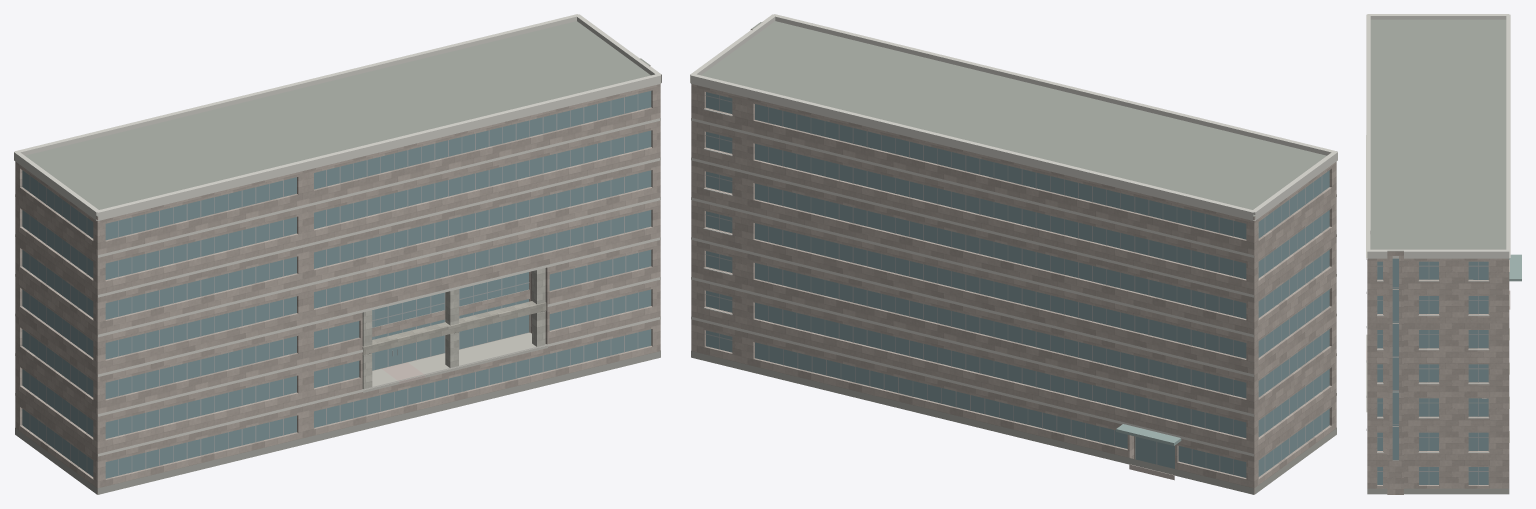
3 views of the same model, side by side, from view 1: azimuth 30°, elevation 25°; view 2: azimuth 150°, elevation 25°; view 3: azimuth 270°, elevation 25° (orthographic). The views are drawn at different scales.
Visible parts, largest first — view 1: engineeringA__wall, engineeringA__glass, engineeringA__roof, engineeringA__trim, engineeringA__frame, engineeringA__base, engineeringA__column, engineeringA__portalPaving, engineeringA__portalBeam; view 2: engineeringA__wall, engineeringA__glass, engineeringA__roof, engineeringA__trim, engineeringA__frame, engineeringA__base; view 3: engineeringA__roof, engineeringA__wall, engineeringA__glass, engineeringA__trim, engineeringA__base, engineeringA__frame, engineeringA__canopy.
Part boxes in pixels (left/top/right/bottom): engineeringA__wall: left=15, top=65, right=660, bottom=494; engineeringA__glass: left=22, top=91, right=651, bottom=478; engineeringA__roof: left=25, top=21, right=650, bottom=332; engineeringA__trim: left=14, top=14, right=661, bottom=456; engineeringA__frame: left=29, top=94, right=638, bottom=475; engineeringA__base: left=15, top=351, right=660, bottom=494; engineeringA__column: left=362, top=268, right=545, bottom=388; engineeringA__portalPaving: left=363, top=332, right=547, bottom=392; engineeringA__portalBeam: left=362, top=301, right=546, bottom=354; engineeringA__wall: left=691, top=29, right=1336, bottom=494; engineeringA__glass: left=706, top=92, right=1329, bottom=477; engineeringA__roof: left=701, top=21, right=1326, bottom=216; engineeringA__trim: left=690, top=14, right=1337, bottom=456; engineeringA__frame: left=705, top=95, right=1322, bottom=474; engineeringA__base: left=691, top=351, right=1336, bottom=494; engineeringA__roof: left=1370, top=19, right=1506, bottom=251; engineeringA__wall: left=1367, top=251, right=1509, bottom=494; engineeringA__glass: left=1377, top=258, right=1488, bottom=484; engineeringA__trim: left=1366, top=14, right=1510, bottom=452; engineeringA__base: left=1367, top=488, right=1509, bottom=494; engineeringA__frame: left=1377, top=261, right=1488, bottom=485; engineeringA__canopy: left=1509, top=254, right=1521, bottom=281.
Bounding box in the file's own units: 53.64 × 26.05 × 14.86.
Materials: 13 (3 with a texture image).
